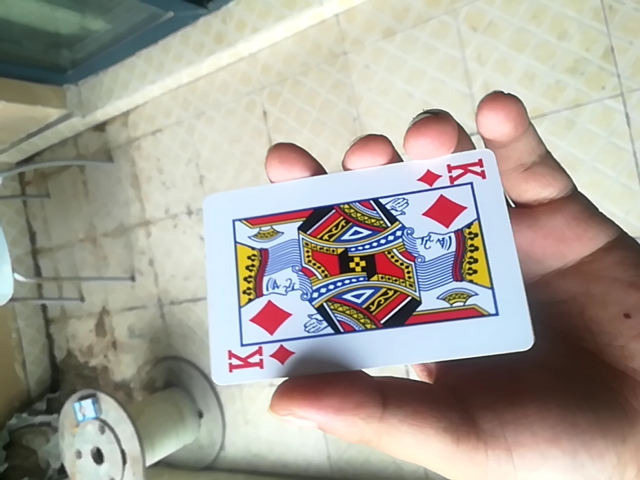fk k: (199, 136, 535, 392)
